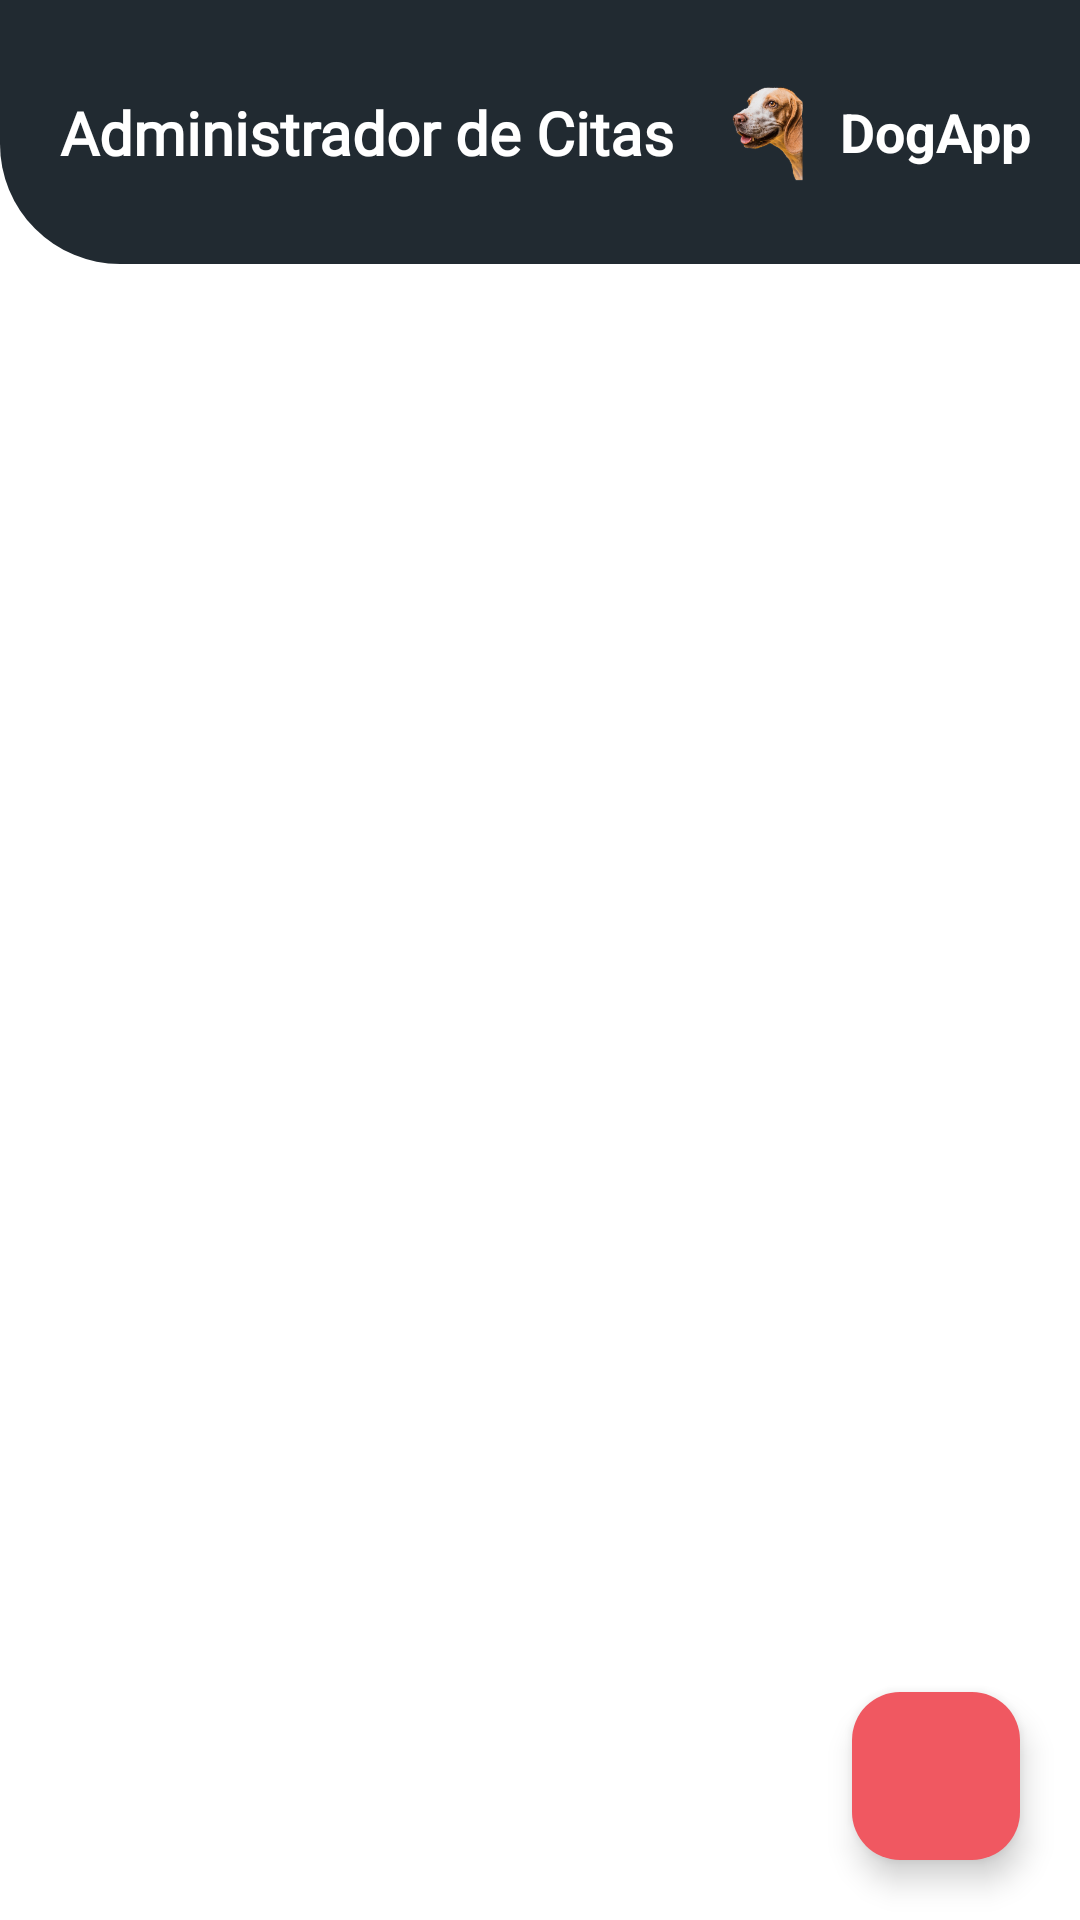

Icons on this 1080px×1920px Android screen, each with the point to tap as point (x, y):
dog head: point (768, 133)
